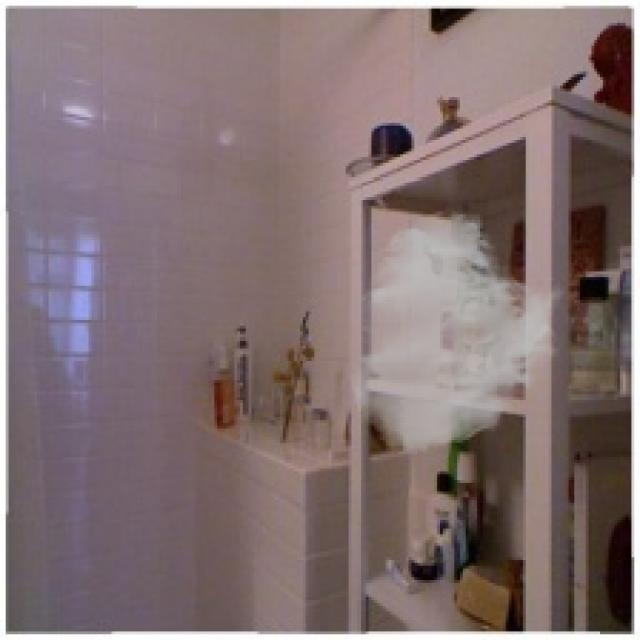Smoke: (348, 209, 566, 457)
